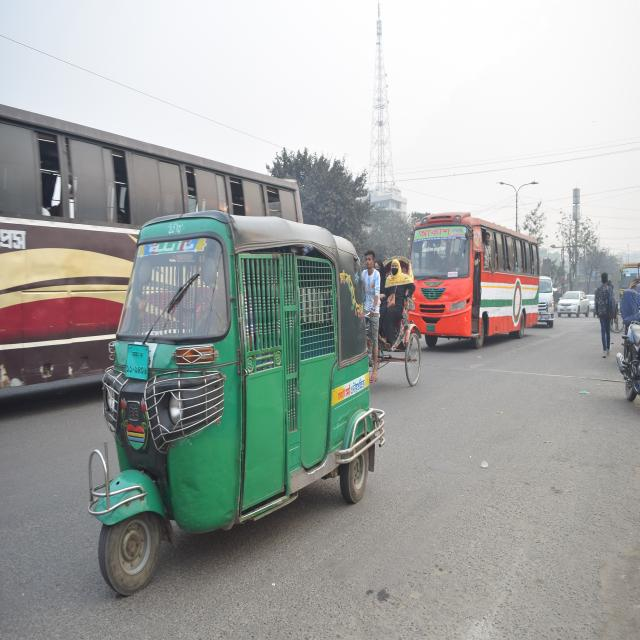bus: (2, 68, 324, 424), (407, 196, 543, 367)
car: (562, 270, 592, 330)
